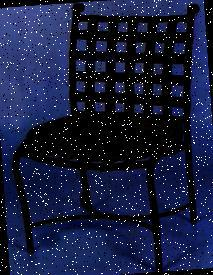Silla: (3, 2, 212, 274)
